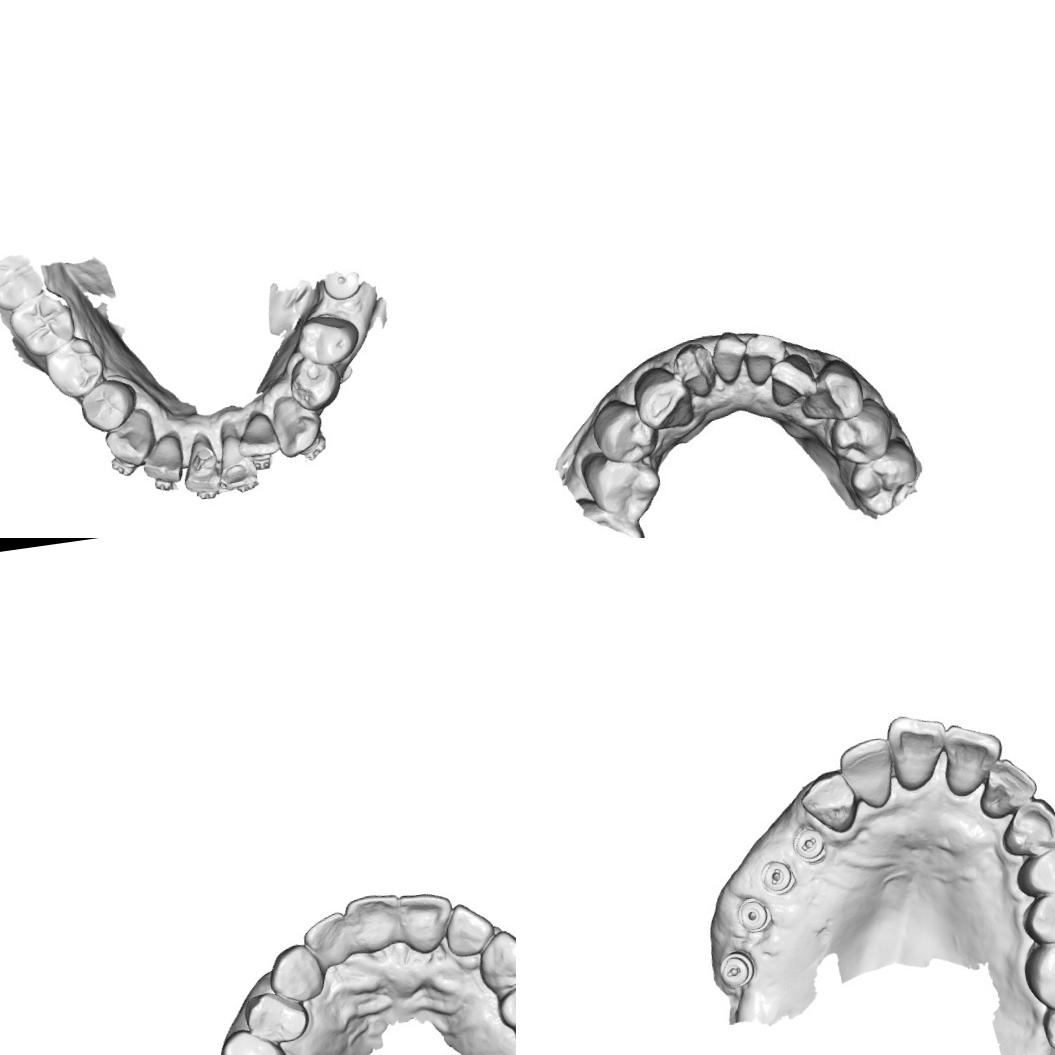canine: (793, 353, 871, 426), (628, 360, 696, 435), (796, 768, 863, 838), (265, 939, 329, 1006), (995, 793, 1055, 862), (267, 390, 326, 460), (100, 406, 160, 472), (476, 924, 516, 995)
implant: (730, 894, 774, 939), (321, 268, 364, 305)
implant_minus: (714, 947, 760, 992), (788, 823, 829, 868), (757, 856, 799, 897)
incisor: (884, 709, 954, 794), (938, 718, 1008, 800), (834, 734, 899, 813), (971, 753, 1041, 820), (393, 884, 458, 948), (343, 890, 405, 949), (743, 328, 791, 396), (300, 908, 355, 966), (447, 898, 499, 956), (672, 340, 720, 402), (177, 436, 224, 498), (214, 431, 260, 494), (137, 432, 187, 488), (708, 328, 754, 386), (232, 407, 282, 460), (768, 352, 816, 406)
molar: (846, 434, 928, 520), (5, 288, 80, 361), (1018, 931, 1055, 1018), (0, 254, 45, 313), (1039, 996, 1055, 1055)
premolar: (579, 443, 668, 532), (822, 393, 898, 470), (586, 395, 663, 468), (239, 985, 312, 1050), (41, 334, 108, 402), (292, 310, 363, 370), (76, 376, 142, 436), (284, 352, 344, 414), (1012, 840, 1055, 902), (214, 1023, 294, 1055), (1018, 887, 1055, 949), (501, 972, 516, 1029)
